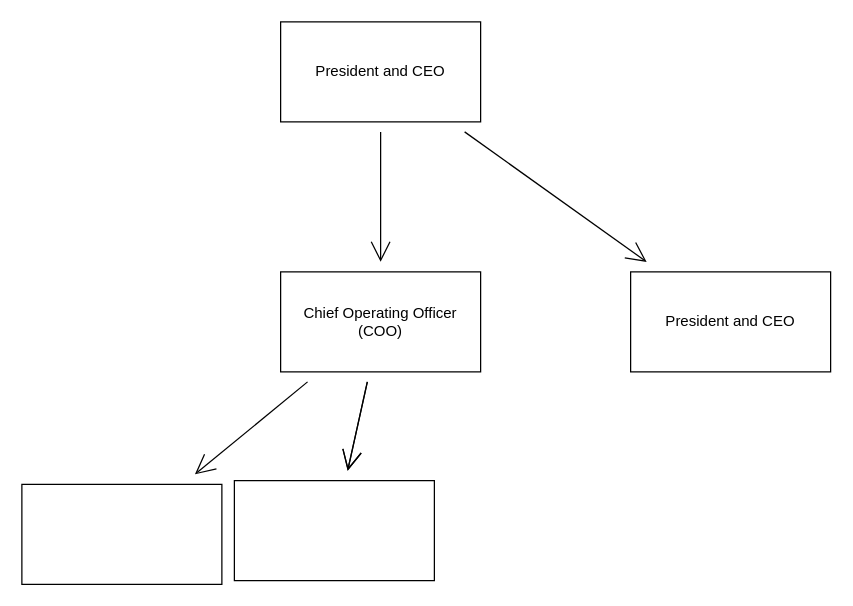
The diagram is 853 pixels wide and 606 high, and some of its shapes have lost their labels. The shapes that lost their labels are listed below. From the top down, each one's box as (x1, y1, x2, y2) in pixels, then its label:
(21, 483, 222, 584): Vice president of HR
(233, 479, 434, 581): Vice president of Engineering and Product Developement
